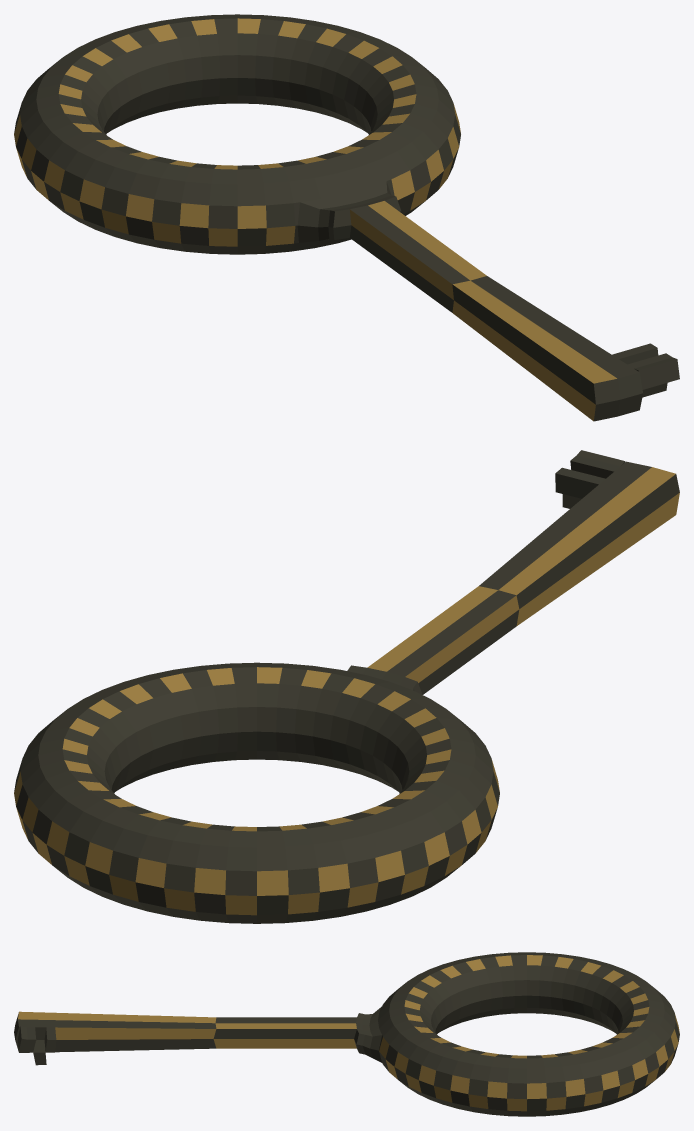
Rendered from MazeKeyv3.glb.
The picture shows the model from 3 angles, top to bottom: view 1: azimuth 30°, elevation 25°; view 2: azimuth 150°, elevation 25°; view 3: azimuth 270°, elevation 25°; orthographic projection. The views are drawn at different scales.
Parts seen in each view (by area): view 1: Torus; view 2: Torus; view 3: Torus.
Part boxes in pixels (x1,y1,x2,y2): Torus: (14, 14, 679, 421); Torus: (14, 450, 679, 923); Torus: (14, 952, 679, 1116).
Size of the model in its own units: 2.5 by 0.5 by 5.44.
